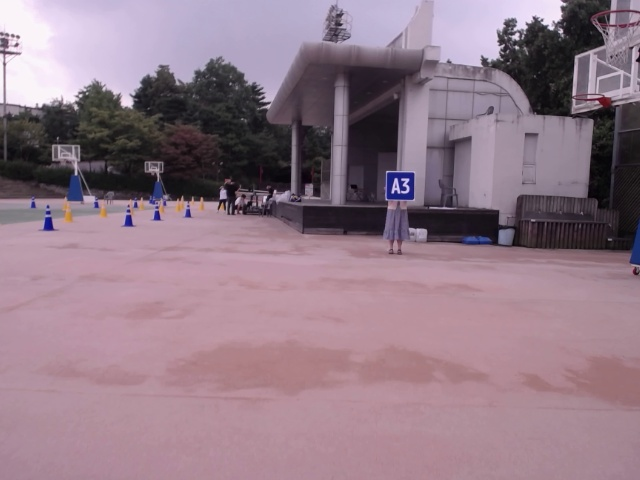delivery_a3: (386, 171, 415, 201)
